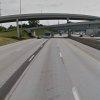Bridge: (1, 2, 94, 39)
